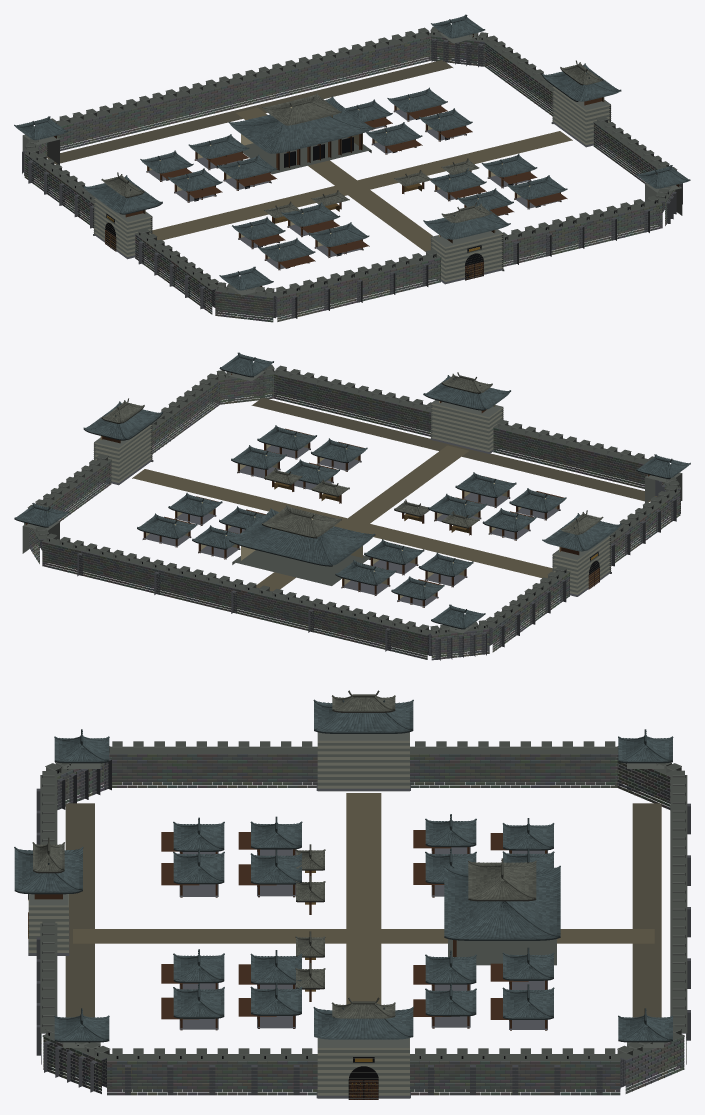
File: TRB8-CITY-INLAND-001-v8.glb
3 views of the same model, one above another, from view 1: azimuth 30°, elevation 25°; view 2: azimuth 150°, elevation 25°; view 3: azimuth 270°, elevation 25° (orthographic). The views are drawn at different scales.
Parts seen in each view (by area): view 1: TRB8-CITY-INLAND-001-v8; view 2: TRB8-CITY-INLAND-001-v8; view 3: TRB8-CITY-INLAND-001-v8.
Boxes of the visible parts, x1,y1,x2,y2 form: TRB8-CITY-INLAND-001-v8: [14, 14, 690, 322]; TRB8-CITY-INLAND-001-v8: [14, 352, 690, 660]; TRB8-CITY-INLAND-001-v8: [14, 690, 690, 1099].
Bounding box in the file's own units: 32.87 × 4.34 × 27.94.
